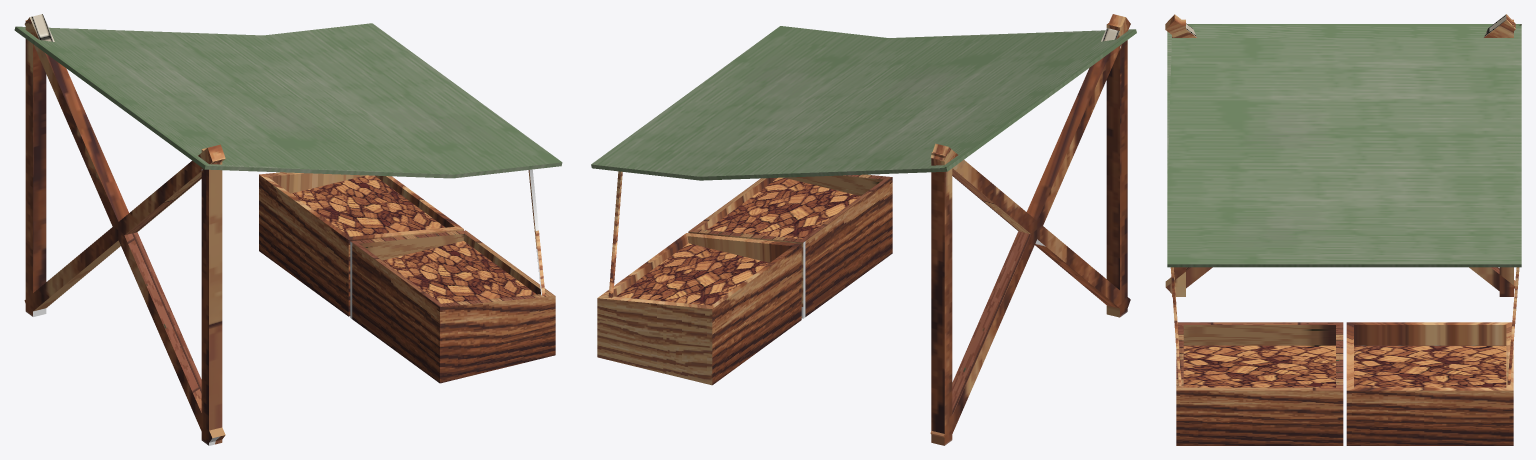
File: street vendor.fbx
3 renders of one model, left to right at view 1: azimuth 30°, elevation 25°; view 2: azimuth 150°, elevation 25°; view 3: azimuth 270°, elevation 25°, orthographic. The views are drawn at different scales.
Visible parts, largest first — view 1: polySurface20; view 2: polySurface20; view 3: polySurface20.
Boxes of the visible parts, bbox=[...] form: polySurface20: bbox=[14, 14, 562, 445]; polySurface20: bbox=[591, 14, 1136, 445]; polySurface20: bbox=[1165, 14, 1521, 445].
Size of the model in its own units: 727 by 578 by 672.
